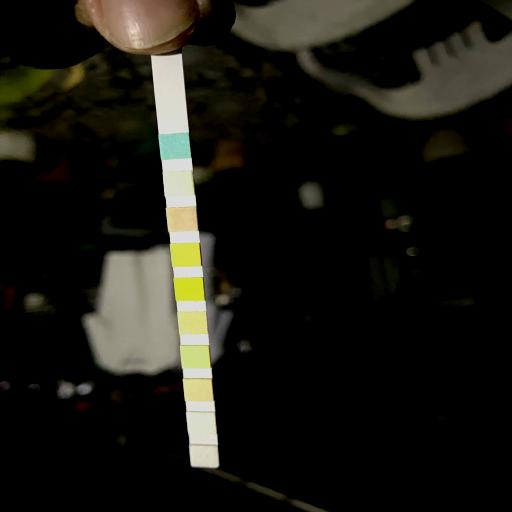Bilirubin: (166, 172, 192, 194)
Blood: (176, 278, 202, 300)
Glucose: (162, 136, 190, 158)
Ketone: (168, 208, 196, 230)
Leukocytes: (191, 446, 218, 466)
Nitrite: (188, 414, 214, 432)
Protein: (184, 347, 208, 367)
SpGravity: (172, 244, 200, 266)
Urobilinogen: (186, 380, 210, 400)
pH: (181, 314, 205, 334)
strip: (151, 58, 219, 468)
